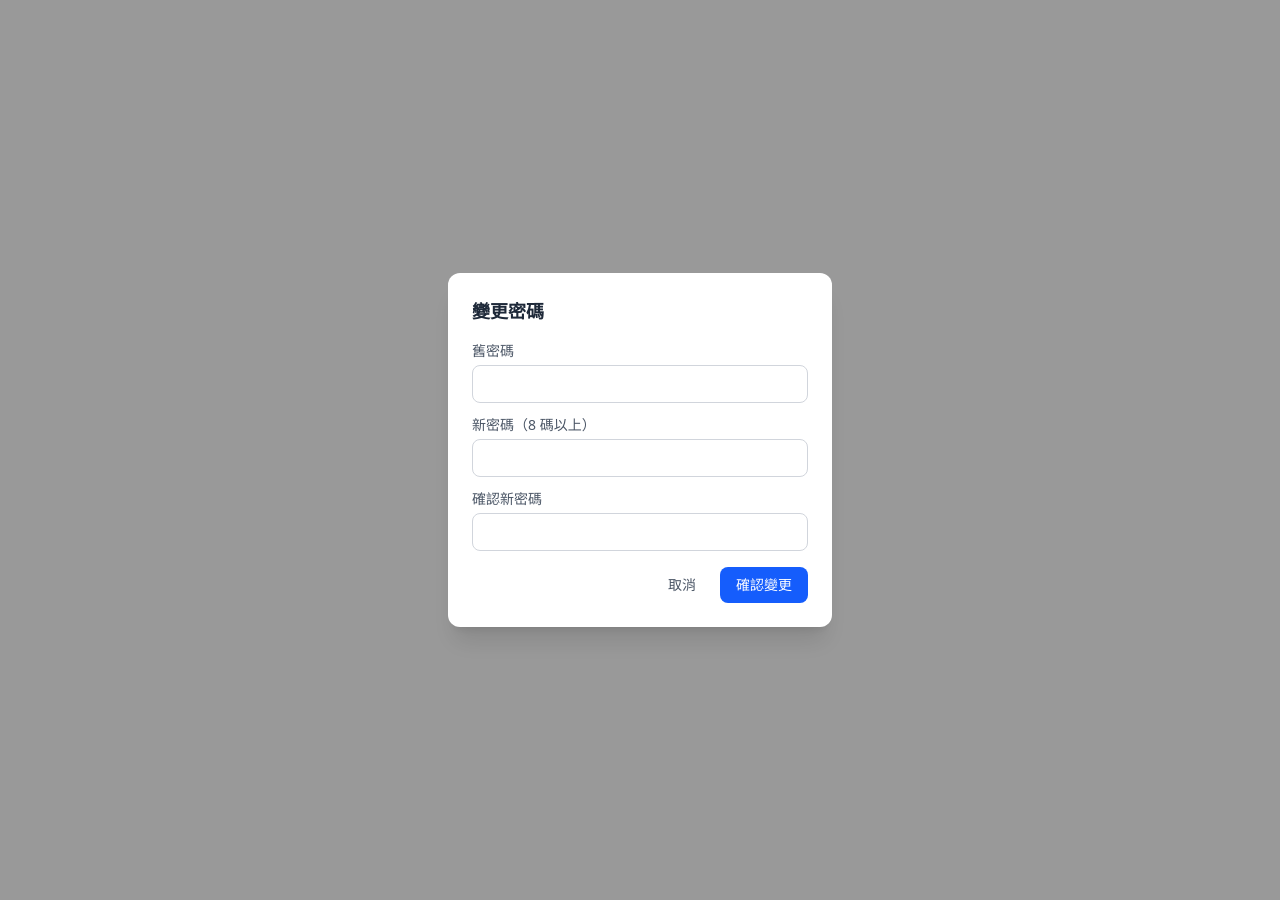
Test: ChangePasswordDialog › rejects short new password client-side
In the password field labelled "舊密碼": (640, 384) [472,365,808,403], type "oldpass1"
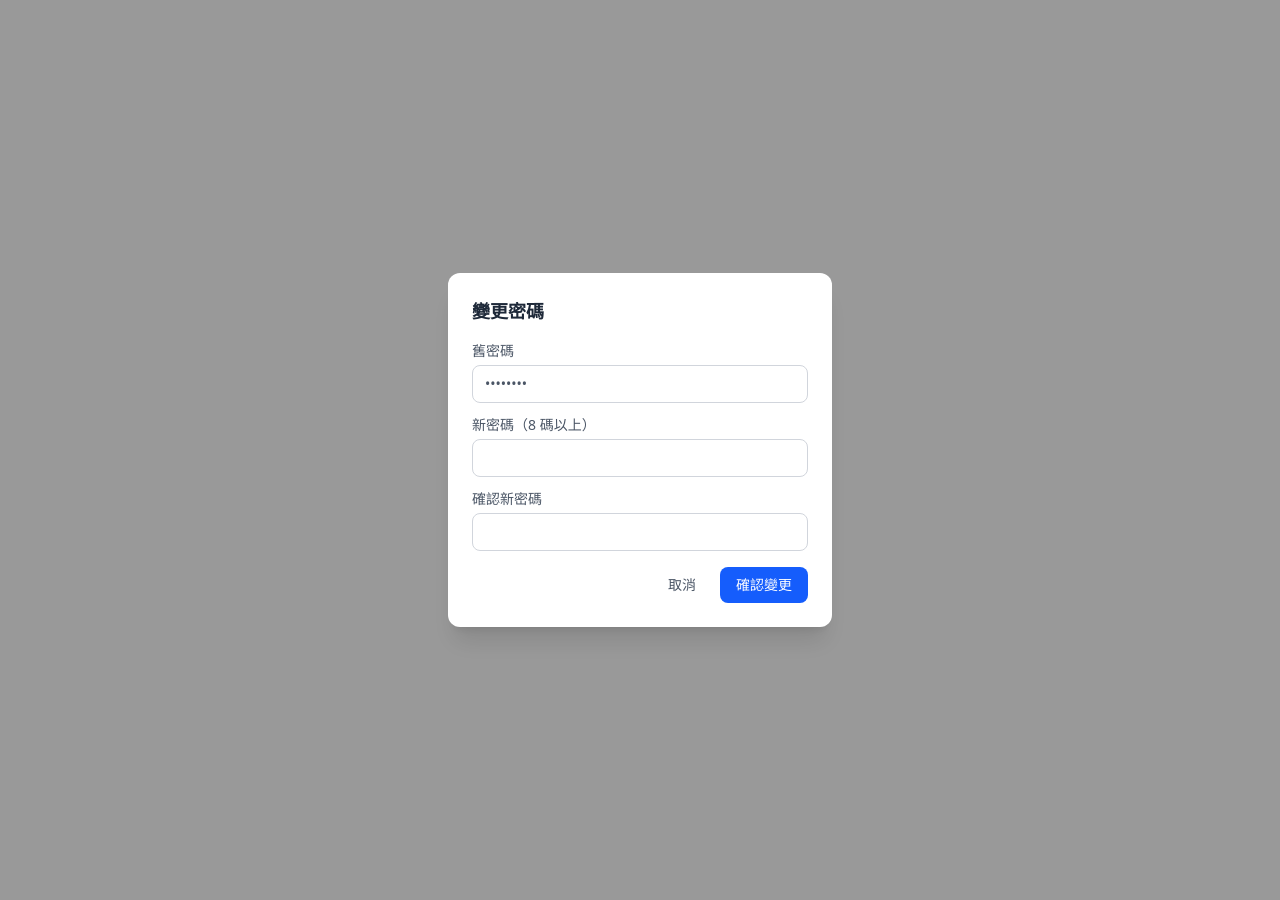
In the password field labelled "新密碼（8 碼以上）": (640, 458) [472,439,808,477], type "short"
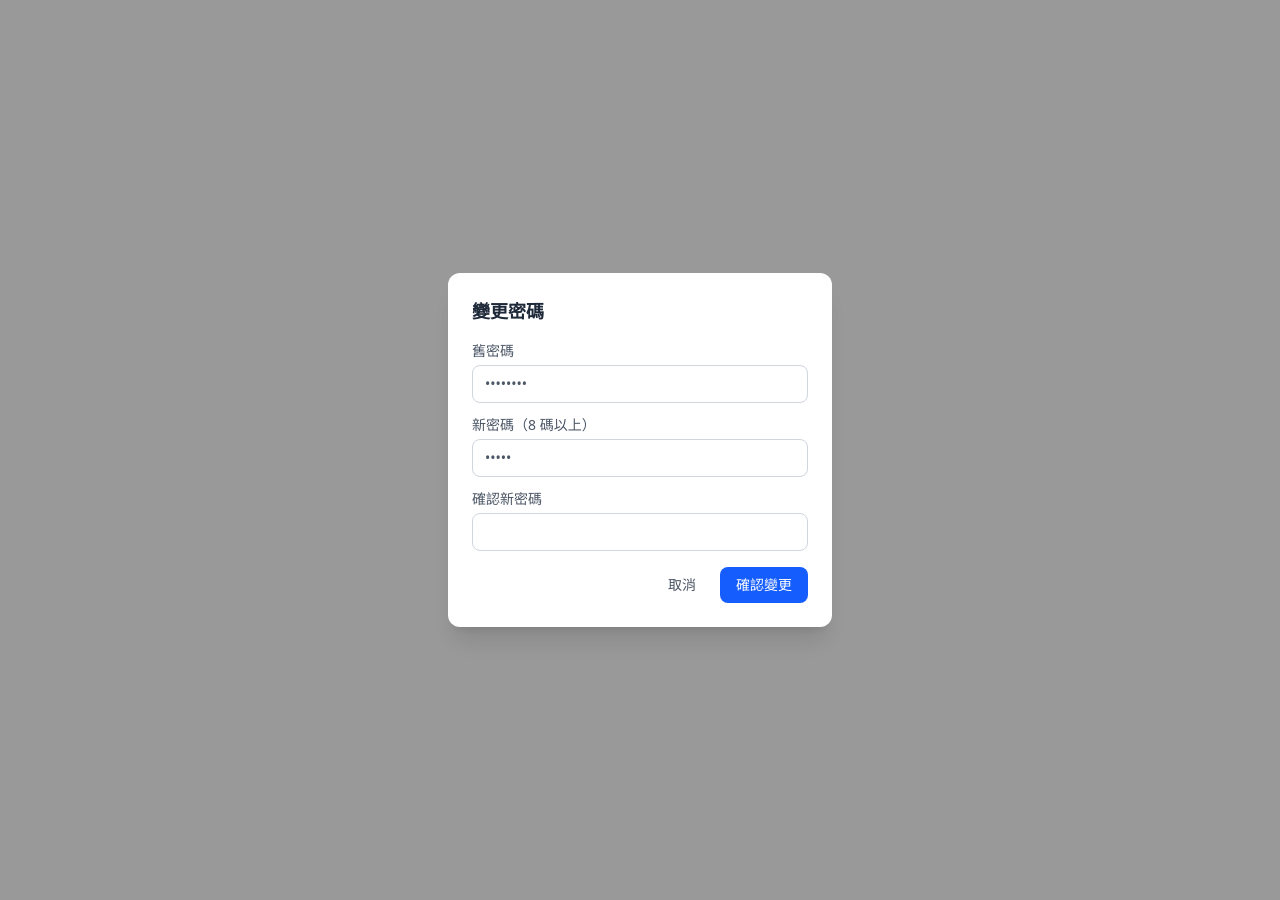
In the password field labelled "確認新密碼": (640, 532) [472,513,808,551], type "short"
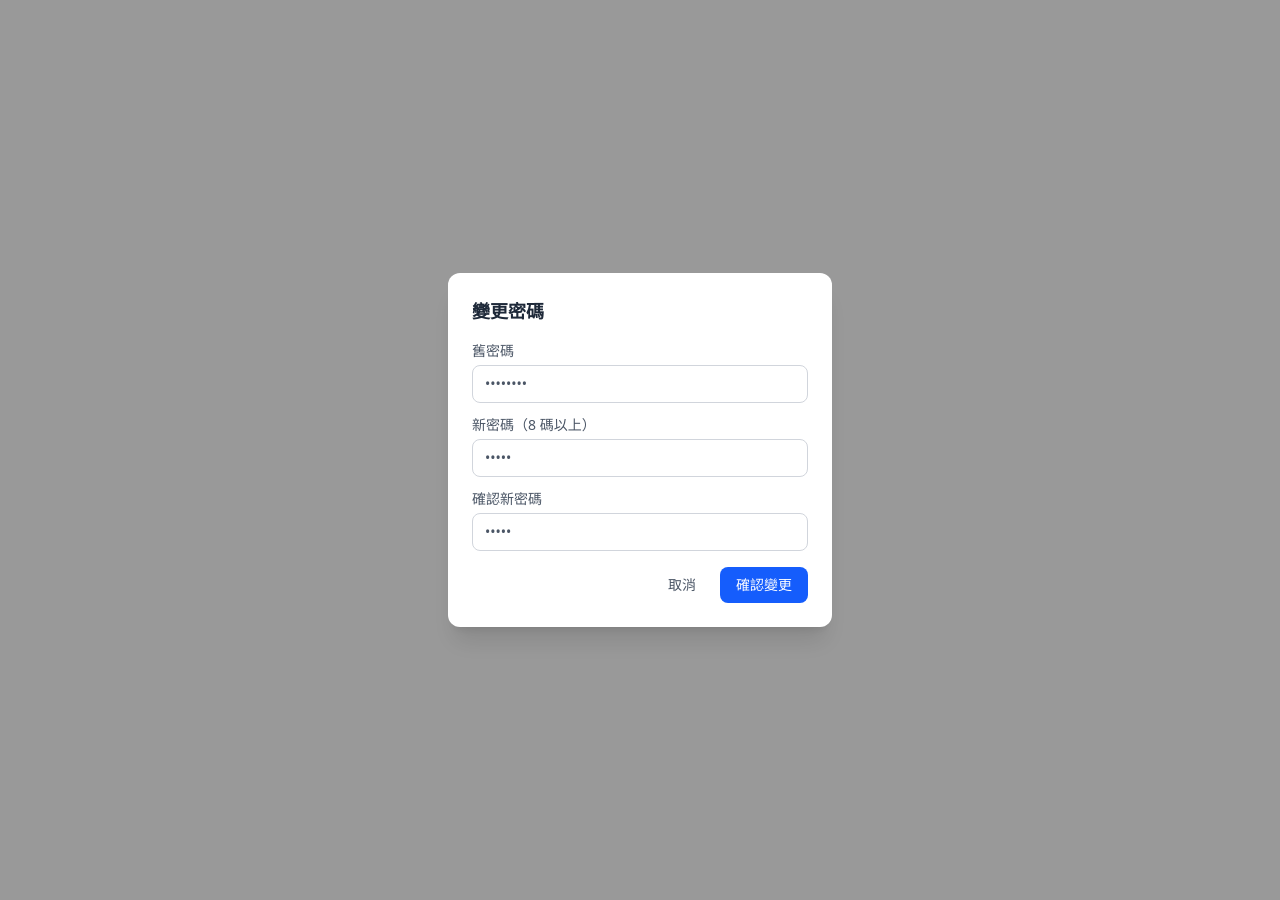
Click the button "確認變更": (764, 585) [720,567,808,603]
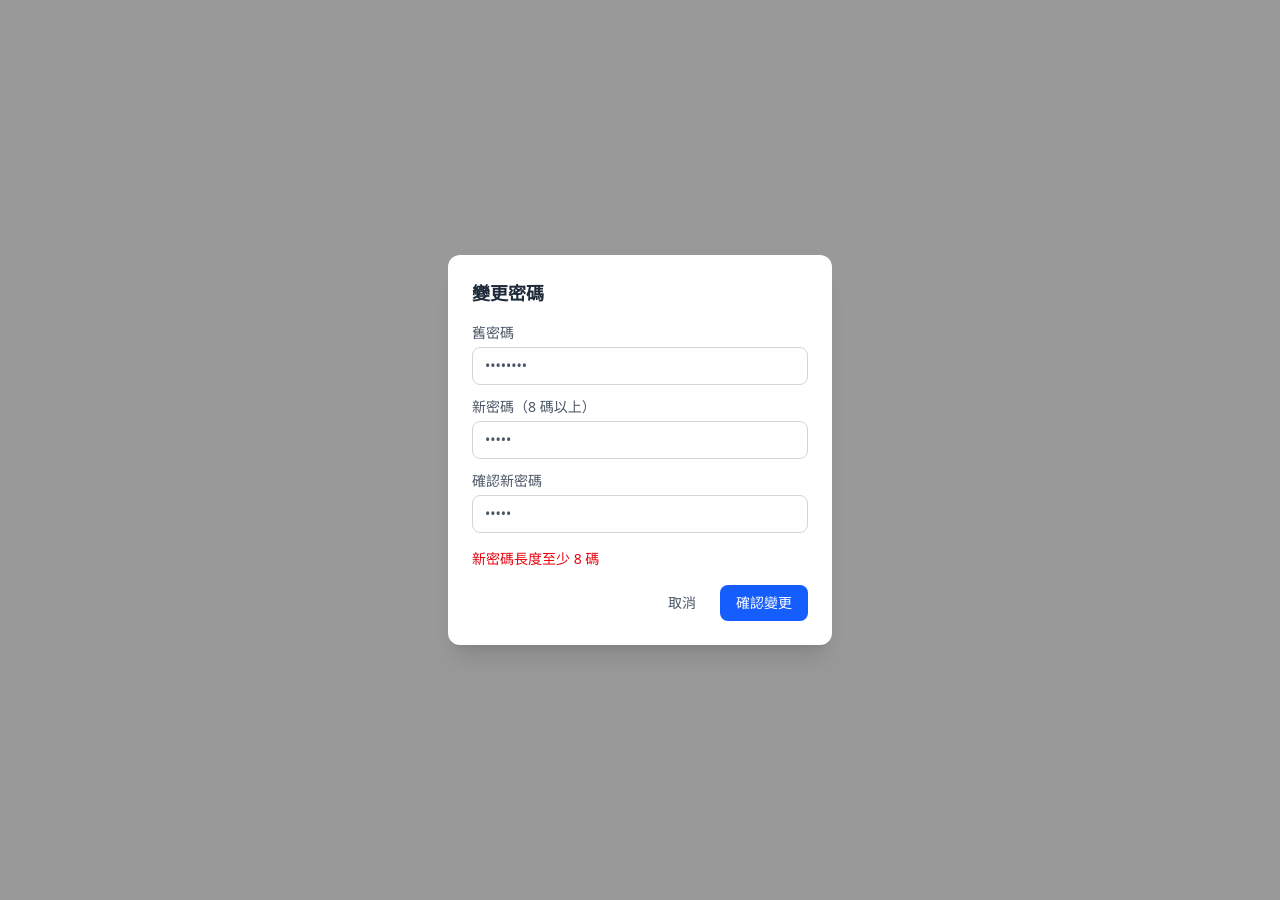
Expected: the text "新密碼長度至少 8 碼" is shown, [472,549,599,568]
